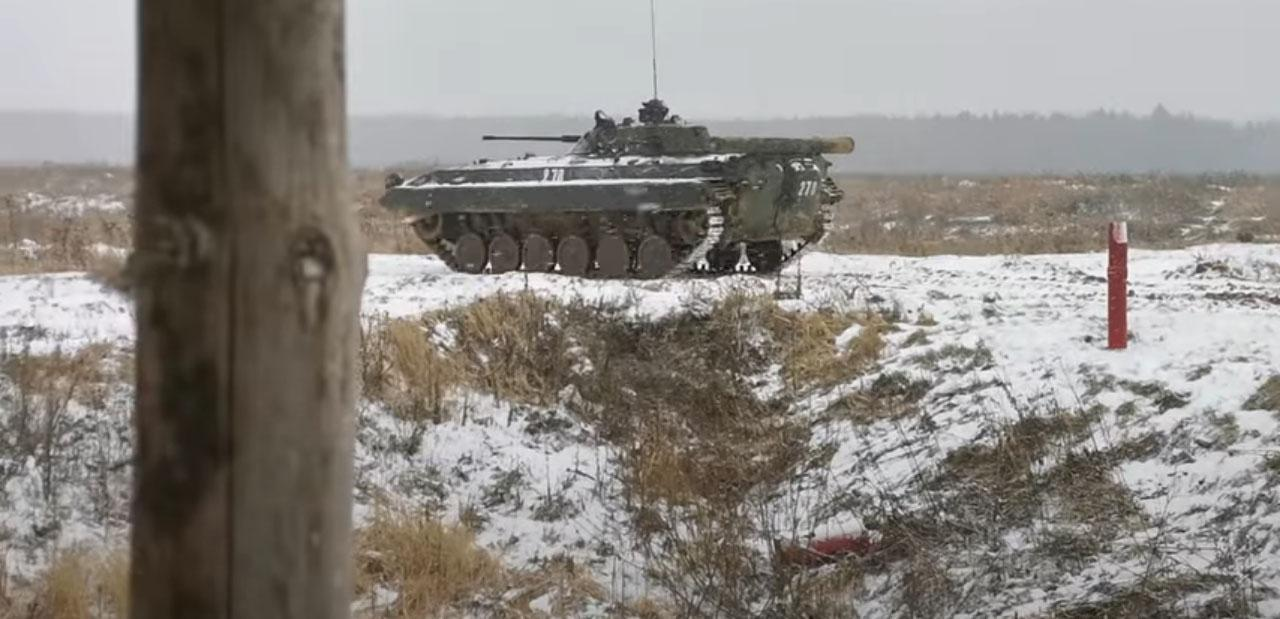tank: (387, 88, 850, 282)
